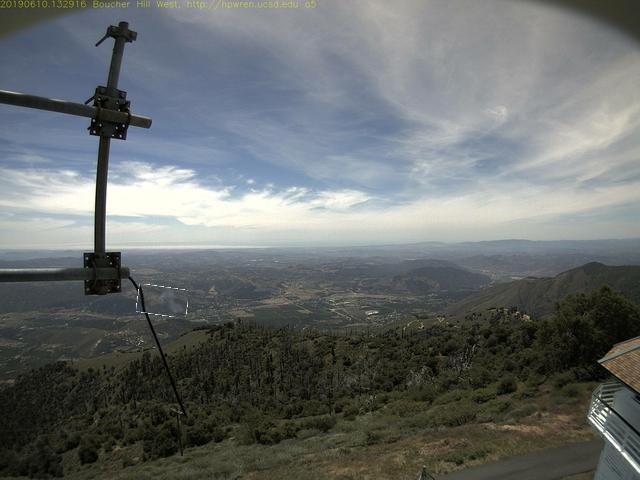smoke: (138, 287, 190, 318)
